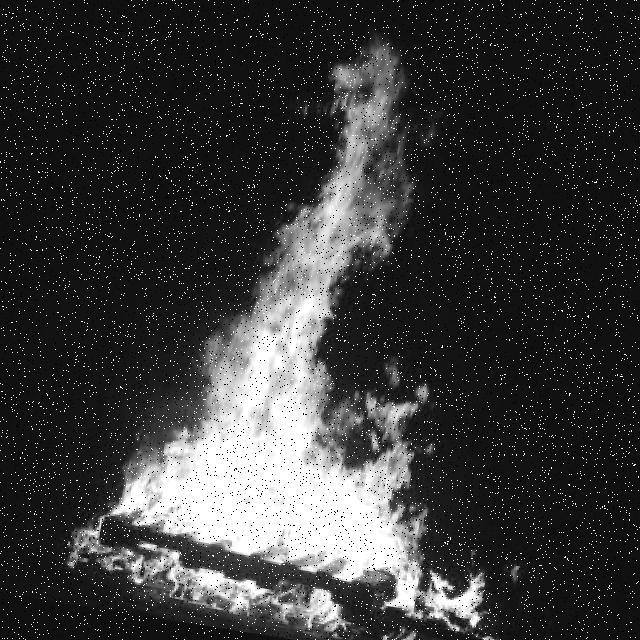Fire: (60, 0, 555, 640)
